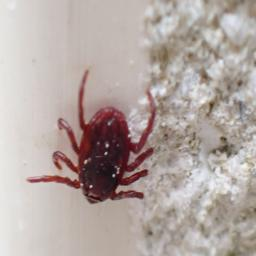Rhipicephalus sanguineus: (26, 67, 160, 205)
